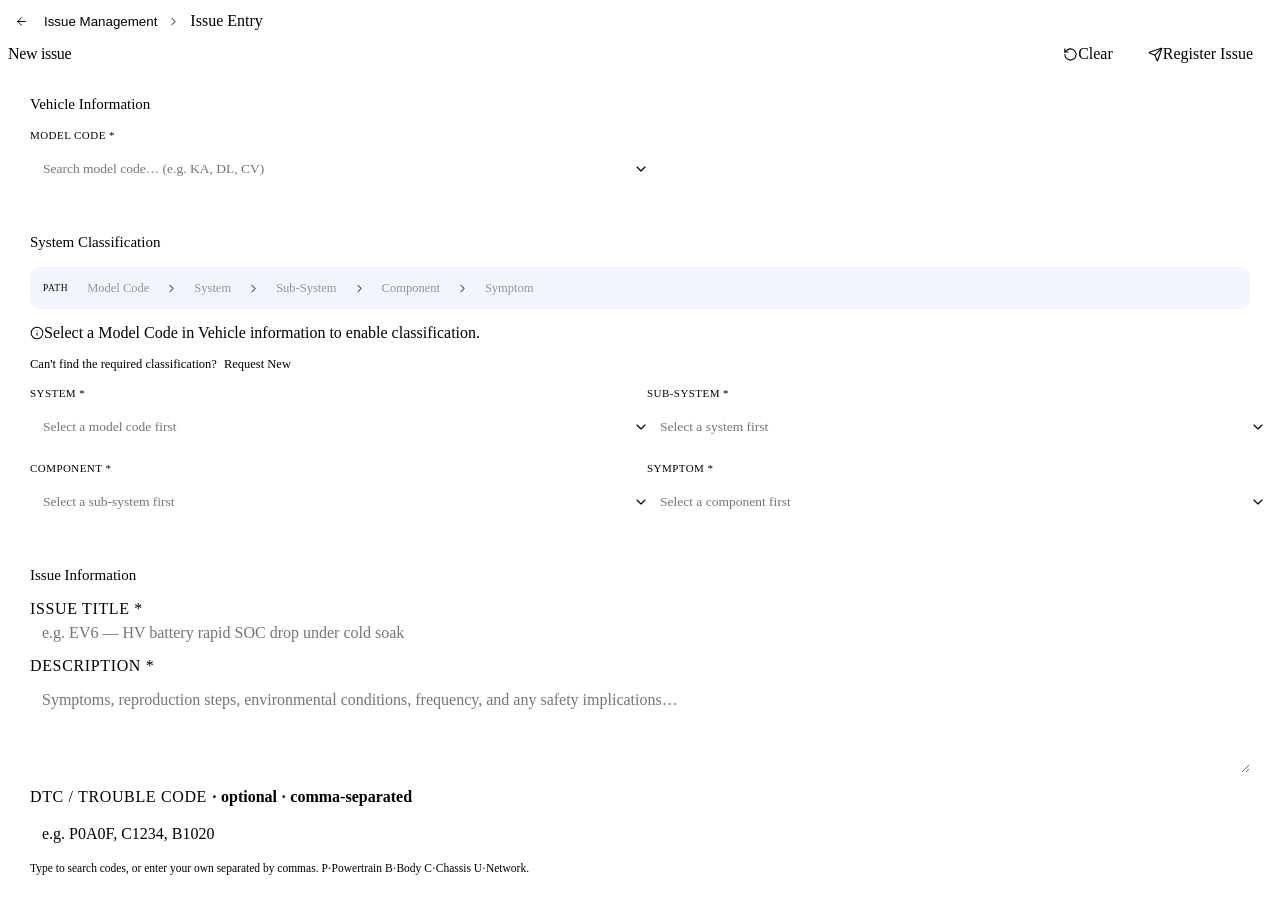
Test: Clear discards the draft — but asks first › confirming empties the text inputs
The width and height of the screenshot is (1280, 900).
Type "something typed" into the field with placeholder "e.g. EV6 — HV battery rapid SOC drop under cold soak" at (640,633), box [30, 624, 1250, 642]
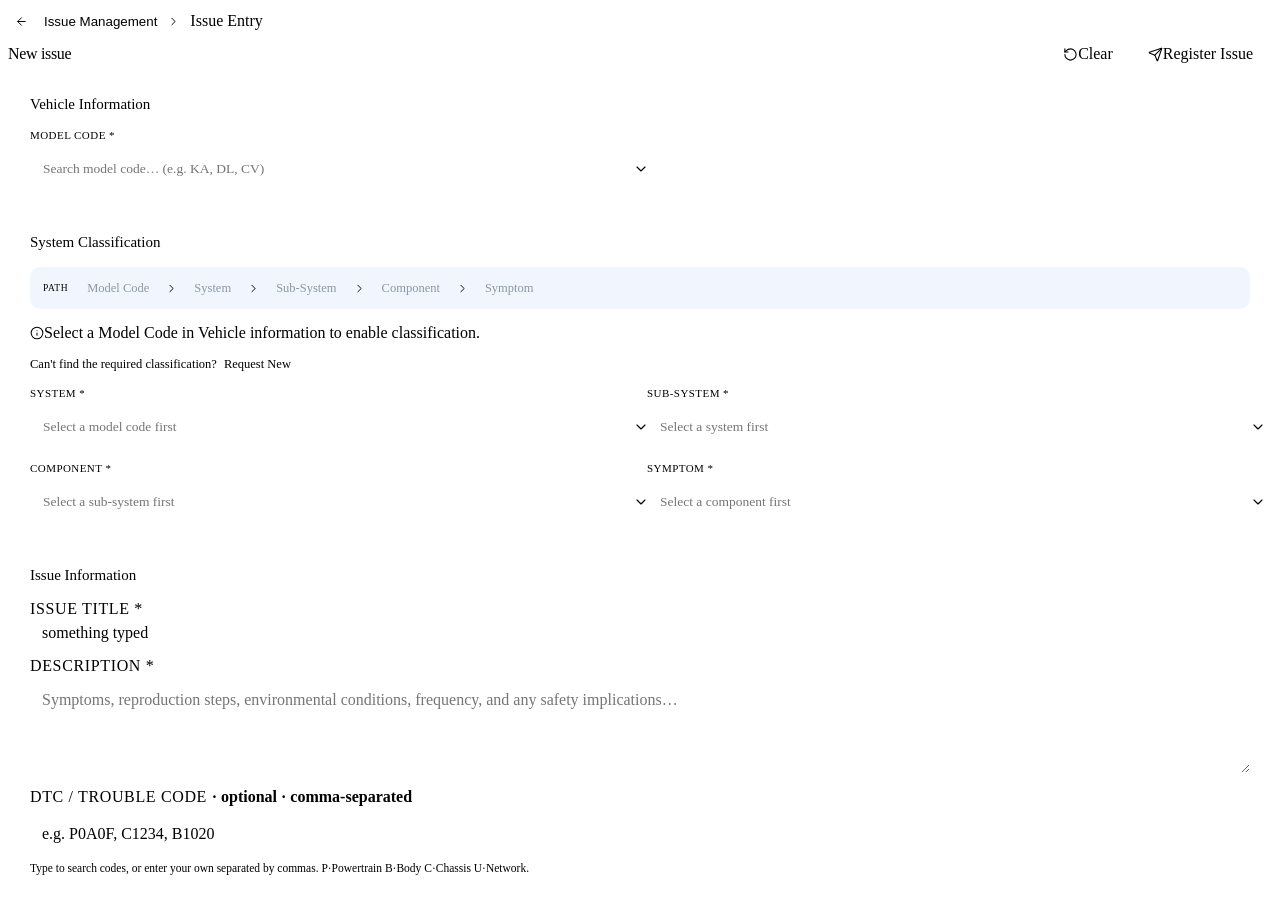
Click the button "Clear" at (1088,54), box [1047, 34, 1129, 74]
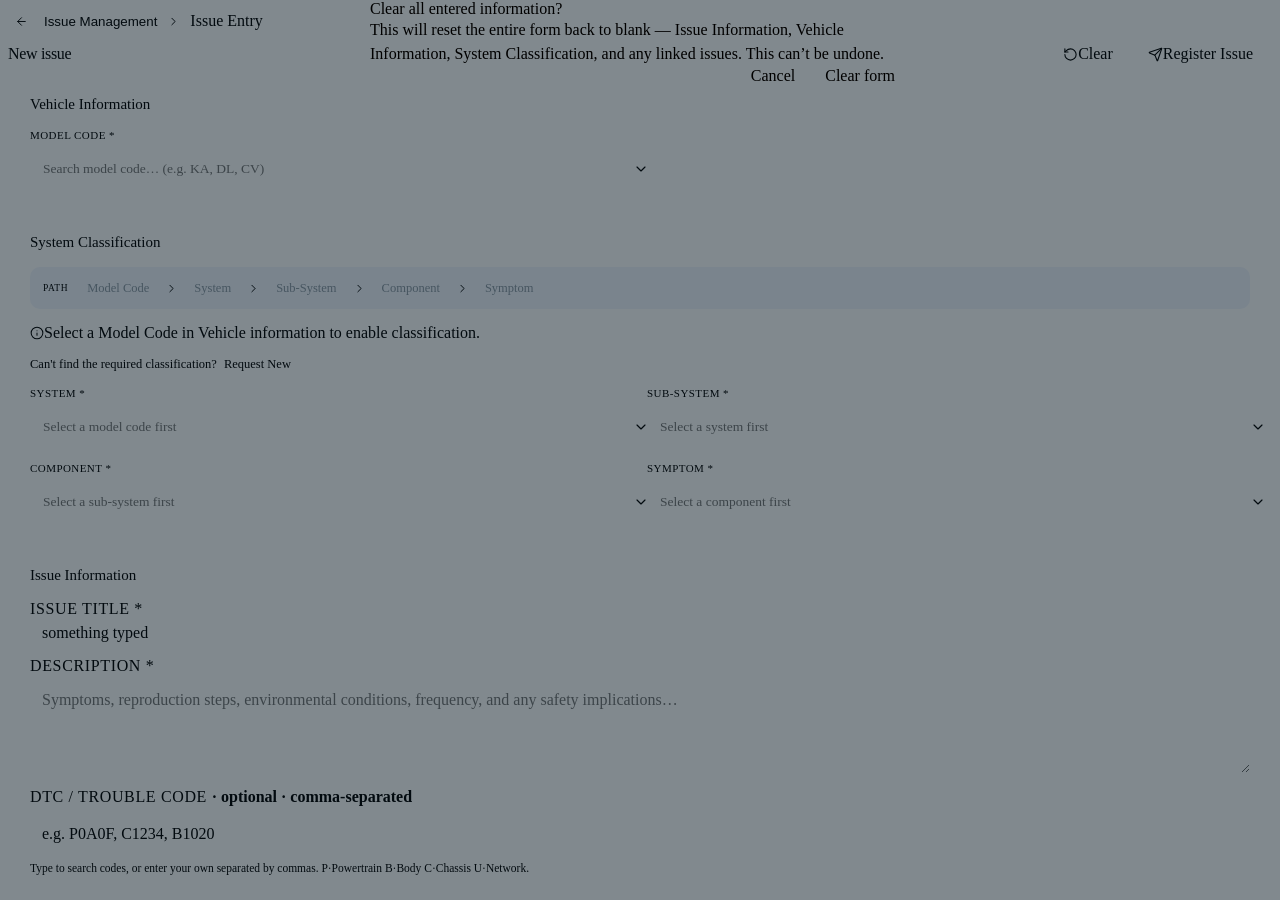
Click the button "Clear form" at (860,76), box [810, 66, 910, 86]
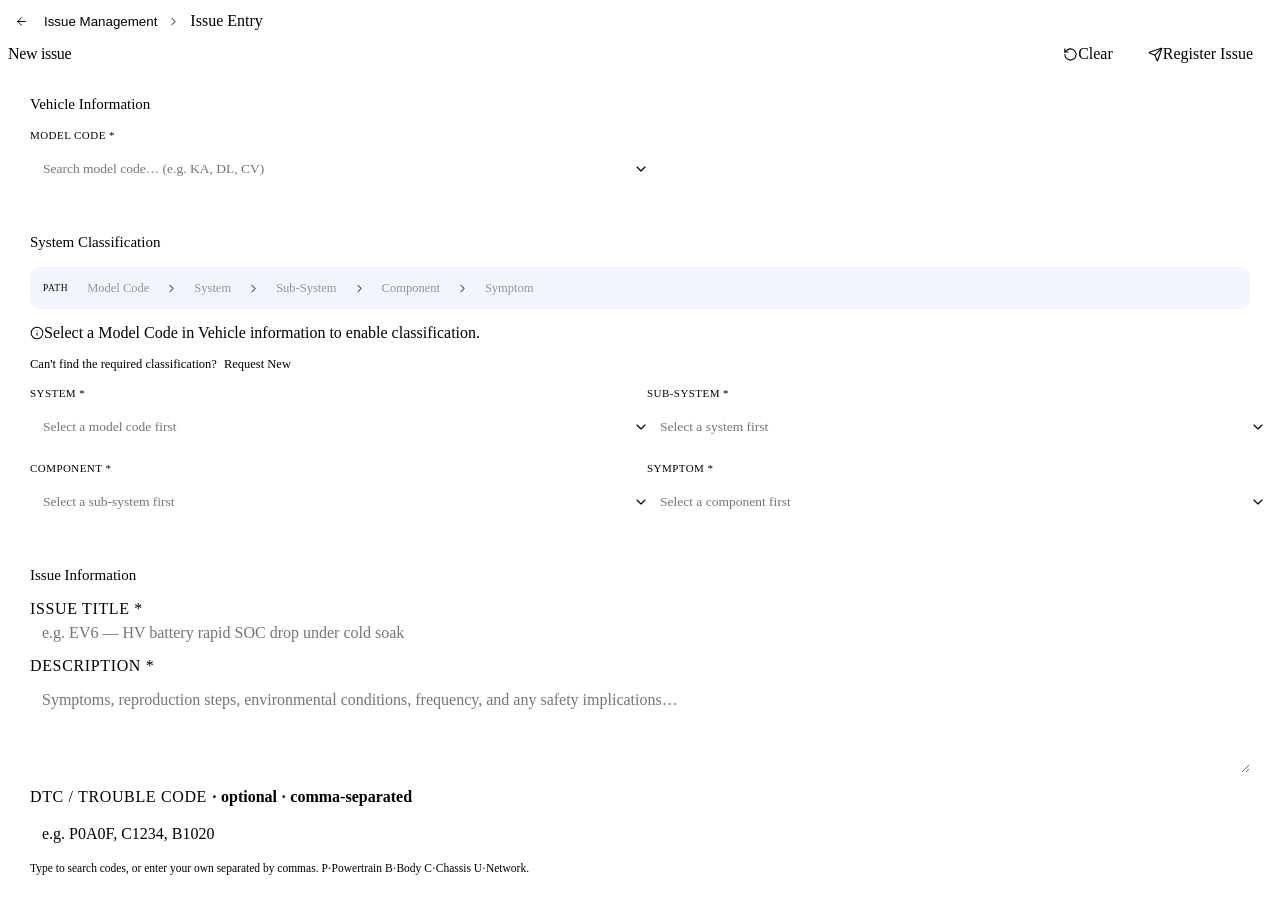
Expected: the field with placeholder "e.g. EV6 — HV battery rapid SOC drop under cold soak" is empty, [30, 624, 1250, 642]
